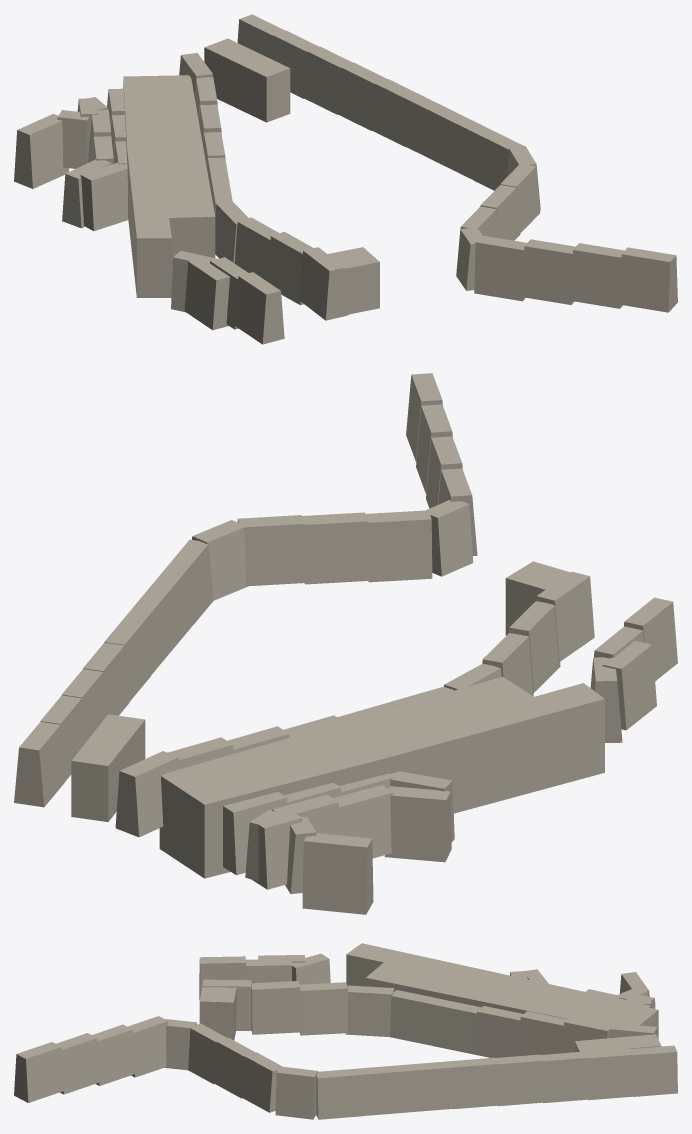
Rendered from bormla_64_27_far.glb.
The picture shows the model from 3 angles, top to bottom: view 1: azimuth 30°, elevation 25°; view 2: azimuth 150°, elevation 25°; view 3: azimuth 270°, elevation 25°; orthographic projection. The views are drawn at different scales.
Visible parts, largest first — view 1: geometry_0; view 2: geometry_0; view 3: geometry_0.
Part boxes in pixels (x1,y1,x2,y2): geometry_0: [14, 14, 677, 344]; geometry_0: [14, 373, 677, 914]; geometry_0: [14, 943, 677, 1119].
Size of the model in its own units: 97.27 by 26.91 by 174.
